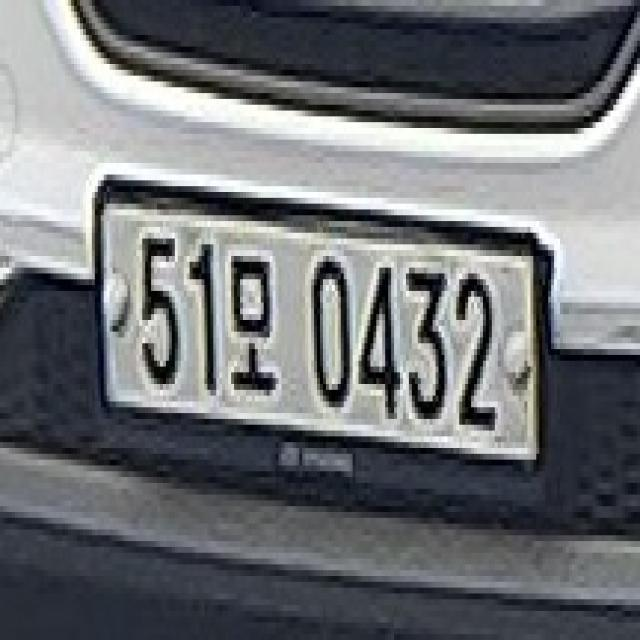plat: (91, 169, 553, 469)
